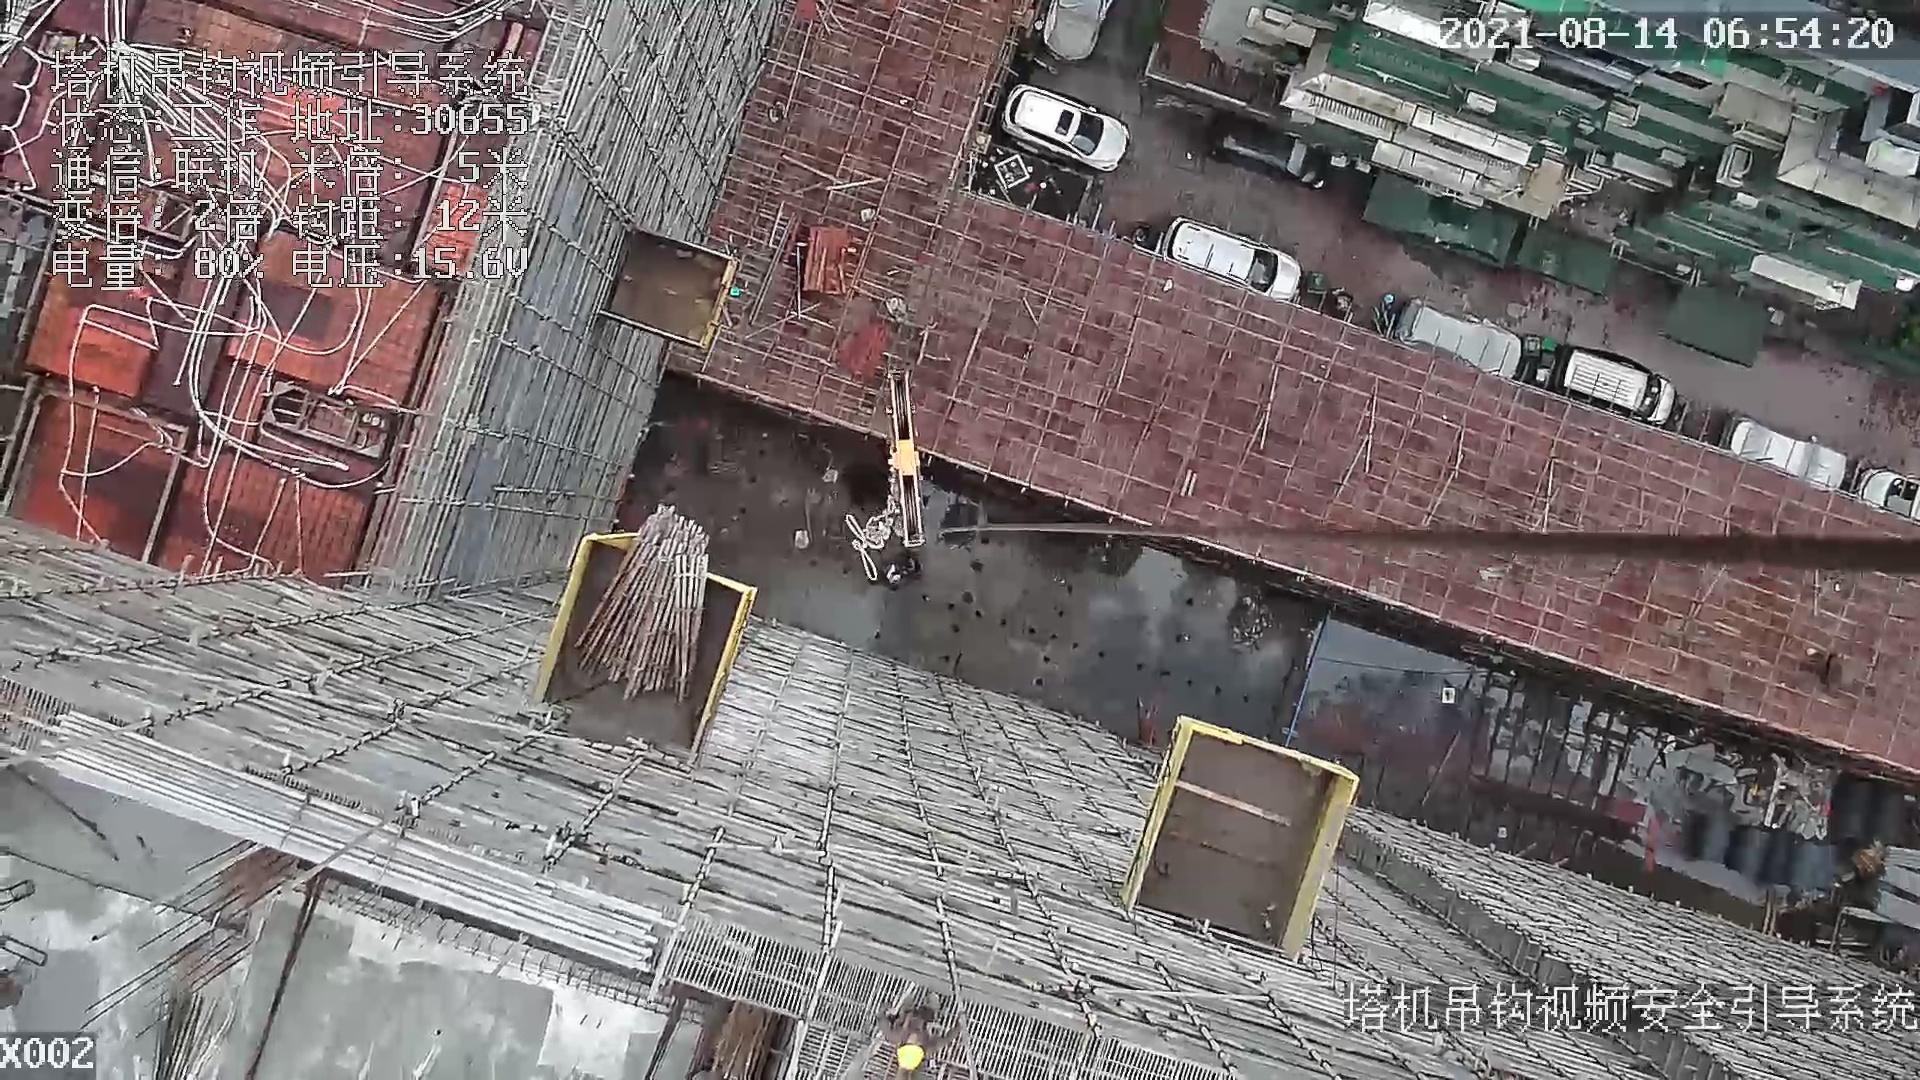helmet: (897, 1044, 923, 1071)
hook: (878, 368, 938, 558)
person: (874, 995, 972, 1080)
rebar: (35, 712, 659, 970)
scaffold: (573, 503, 709, 702)
